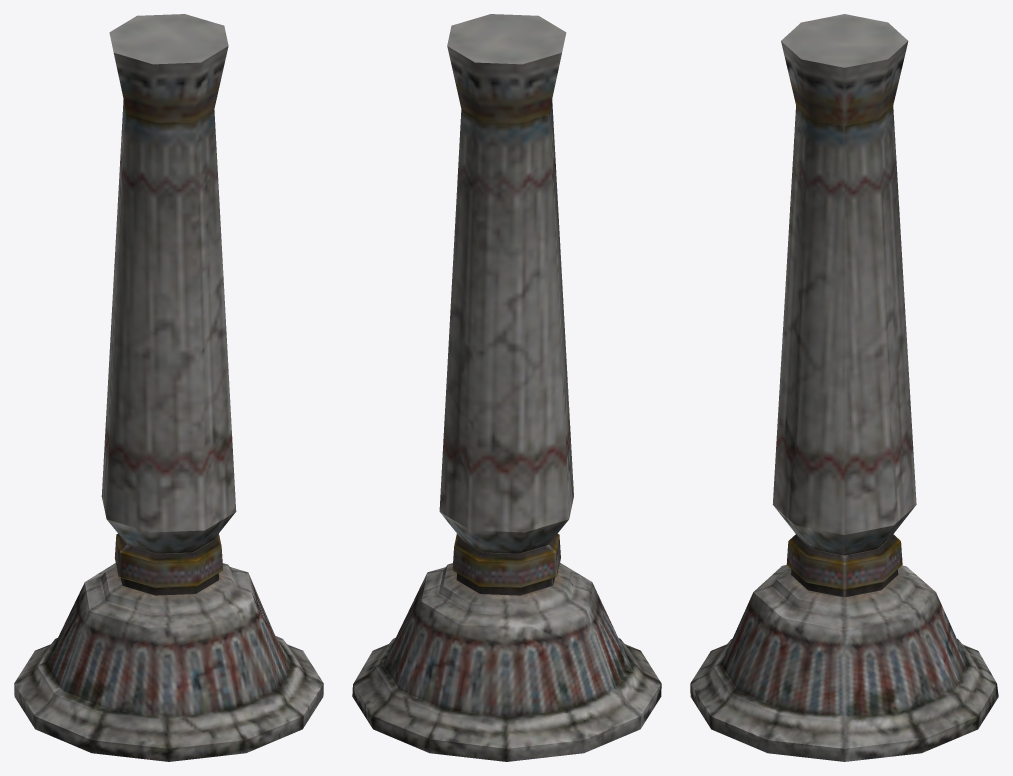
The model's file is SM_EN_2005_shizhuzi06.FBX.
3 renders of one model, left to right at view 1: azimuth 30°, elevation 25°; view 2: azimuth 150°, elevation 25°; view 3: azimuth 270°, elevation 25°, orthographic.
Visible parts, largest first — view 1: SM_EN_2005_shizhuzi06; view 2: SM_EN_2005_shizhuzi06; view 3: SM_EN_2005_shizhuzi06.
Part boxes in pixels (<box>): SM_EN_2005_shizhuzi06: <box>14,14,323,761</box>; SM_EN_2005_shizhuzi06: <box>352,14,661,761</box>; SM_EN_2005_shizhuzi06: <box>690,14,998,761</box>.
Size of the model in its own units: 101 by 237 by 101.
